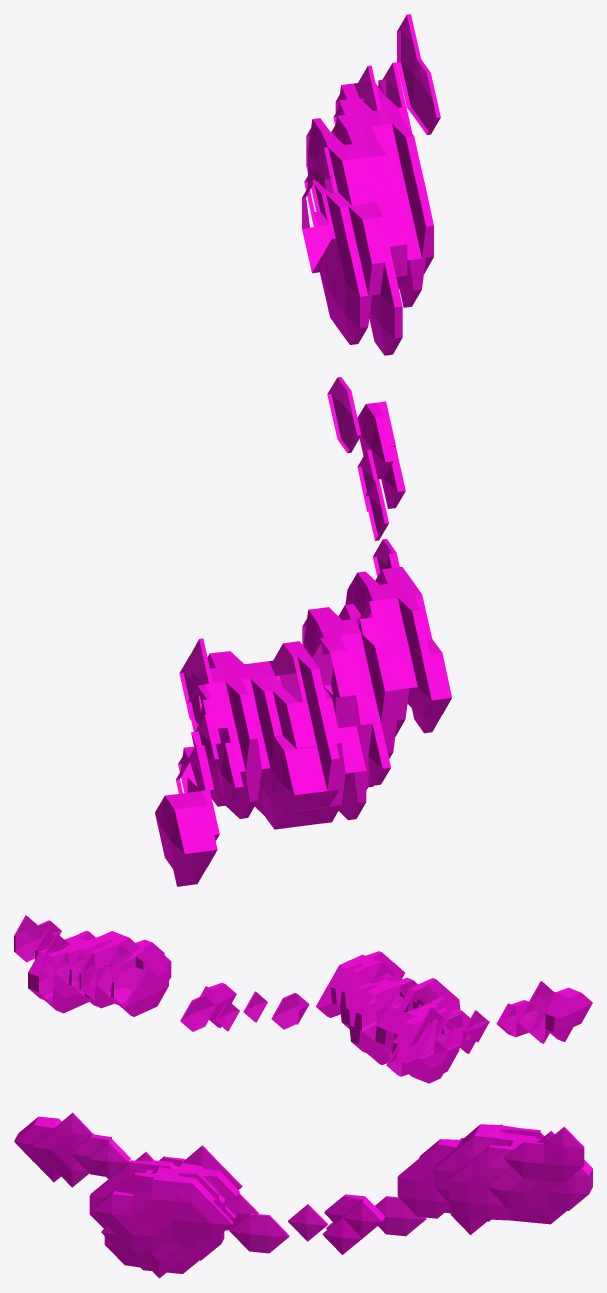
File: SVV_Fragment7.gltf
3 renders of one model, top to bottom at view 1: azimuth 30°, elevation 25°; view 2: azimuth 150°, elevation 25°; view 3: azimuth 270°, elevation 25°, orthographic. The views are drawn at different scales.
Visible parts, largest first — view 1: Fragment7; view 2: Fragment7; view 3: Fragment7.
Boxes of the visible parts, <box> form: Fragment7: <box>155,14,451,886</box>; Fragment7: <box>14,915,592,1083</box>; Fragment7: <box>14,1112,592,1278</box>.
Size of the model in its own units: 15271 by 9228 by 18574.
